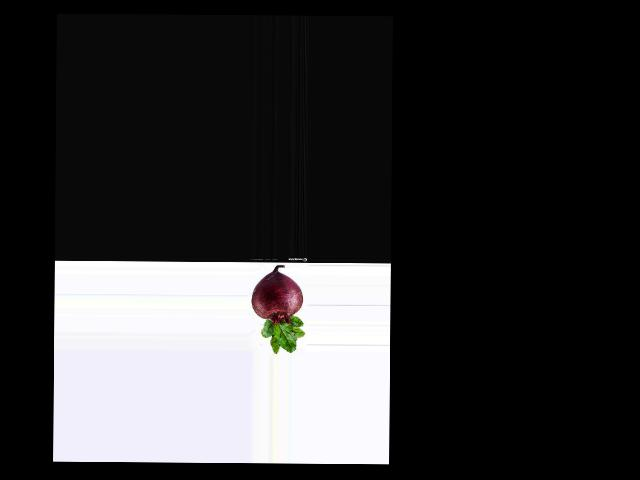beet: (250, 265, 305, 354)
